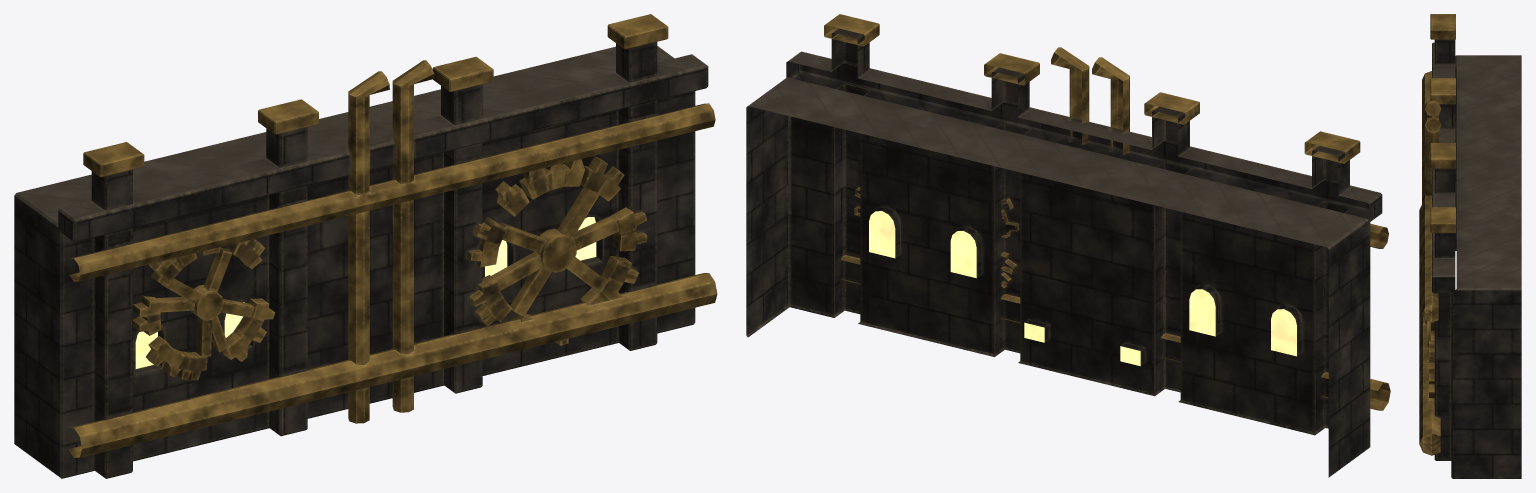
The model's file is ClockLung_BG_Near.fbx.
The picture shows the model from 3 angles, left to right: view 1: azimuth 30°, elevation 25°; view 2: azimuth 150°, elevation 25°; view 3: azimuth 270°, elevation 25°; orthographic projection. The views are drawn at different scales.
Visible parts, largest first — view 1: ClockLung_BG_Near; view 2: ClockLung_BG_Near; view 3: ClockLung_BG_Near.
Boxes of the visible parts, x1=… form: ClockLung_BG_Near: x1=14, y1=14, x2=717, y2=478; ClockLung_BG_Near: x1=746, y1=14, x2=1390, y2=477; ClockLung_BG_Near: x1=1419, y1=14, x2=1521, y2=478.
Size of the model in its own units: 20 by 10.29 by 3.69.
